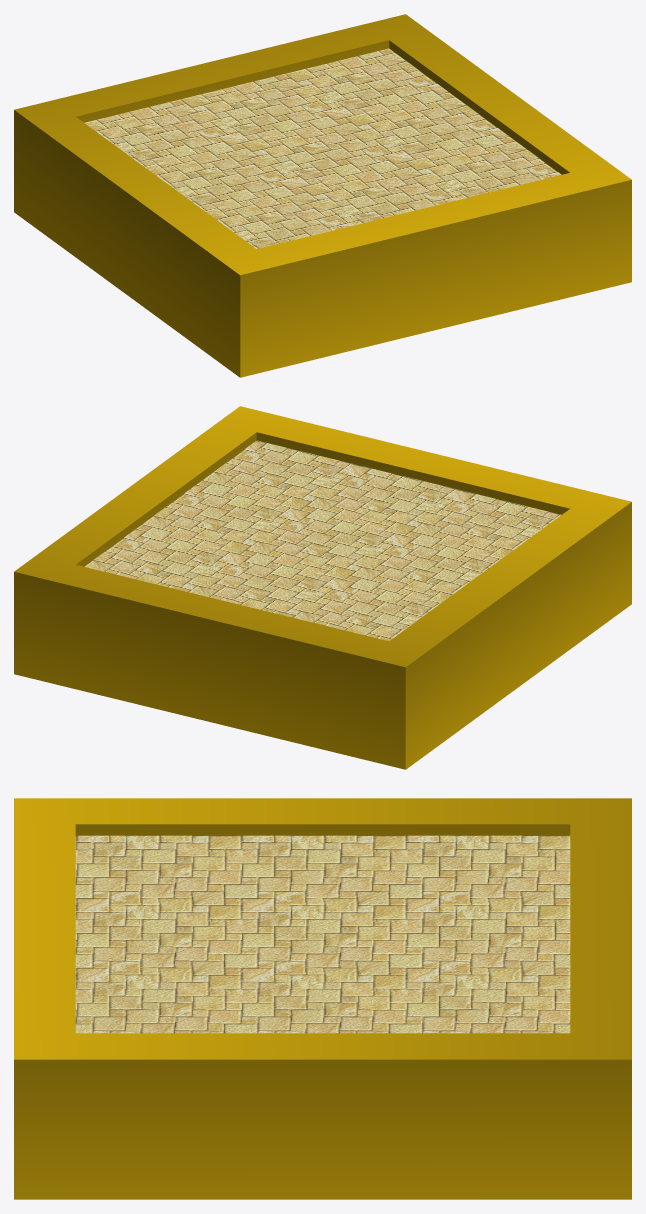
Rendered from TILE_003_Chest.fbx.
3 renders of one model, top to bottom at view 1: azimuth 30°, elevation 25°; view 2: azimuth 150°, elevation 25°; view 3: azimuth 270°, elevation 25°, orthographic. The views are drawn at different scales.
Visible parts, largest first — view 1: TILE_001_Chest; view 2: TILE_001_Chest; view 3: TILE_001_Chest.
Boxes of the visible parts, bbox=[...] form: TILE_001_Chest: bbox=[14, 14, 631, 377]; TILE_001_Chest: bbox=[14, 406, 631, 769]; TILE_001_Chest: bbox=[14, 798, 631, 1199].
Bounding box in the file's own units: 98.43 × 24.61 × 98.43.
